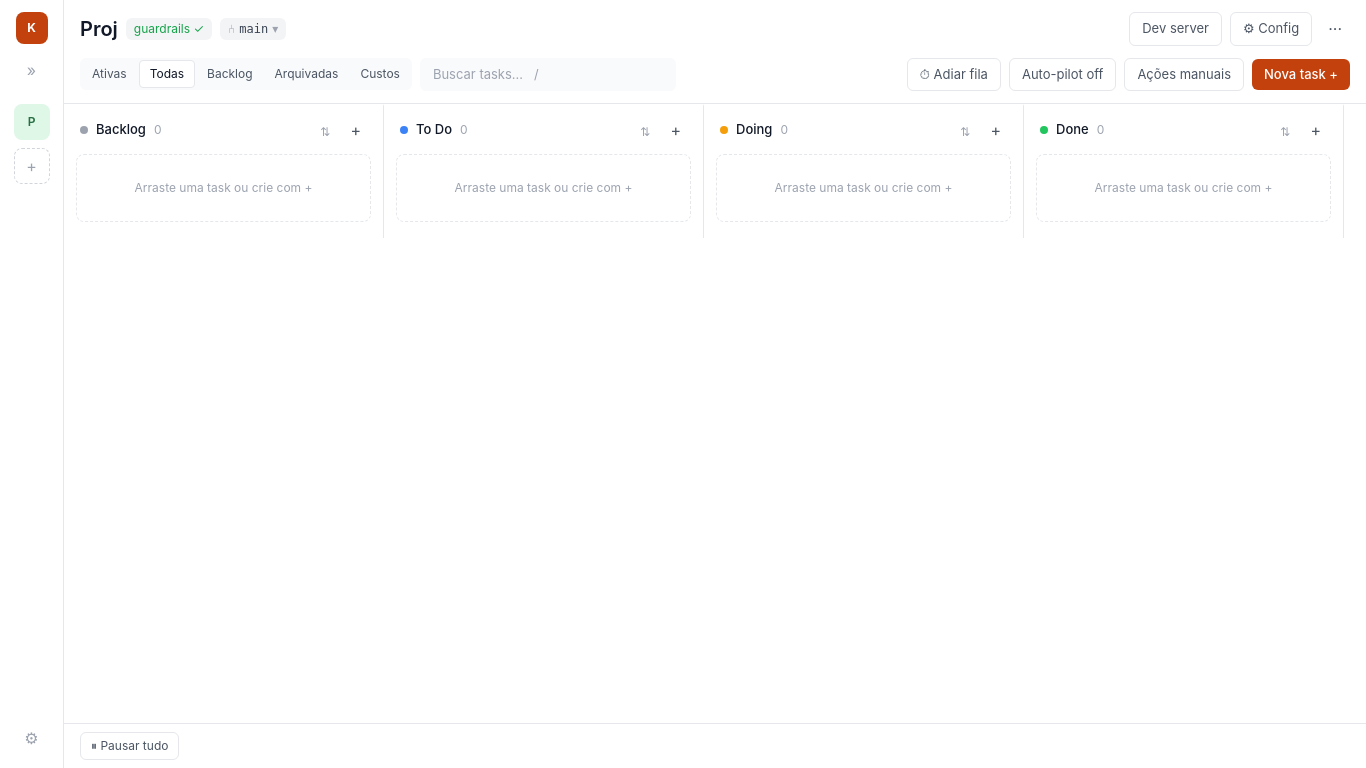
configurações globais em abas › abre em Execução e as outras abas ficam escondidas até o clique
Click the button titled "Configurações globais (valem para todos os projetos)": (31, 738) [18, 720, 45, 756]
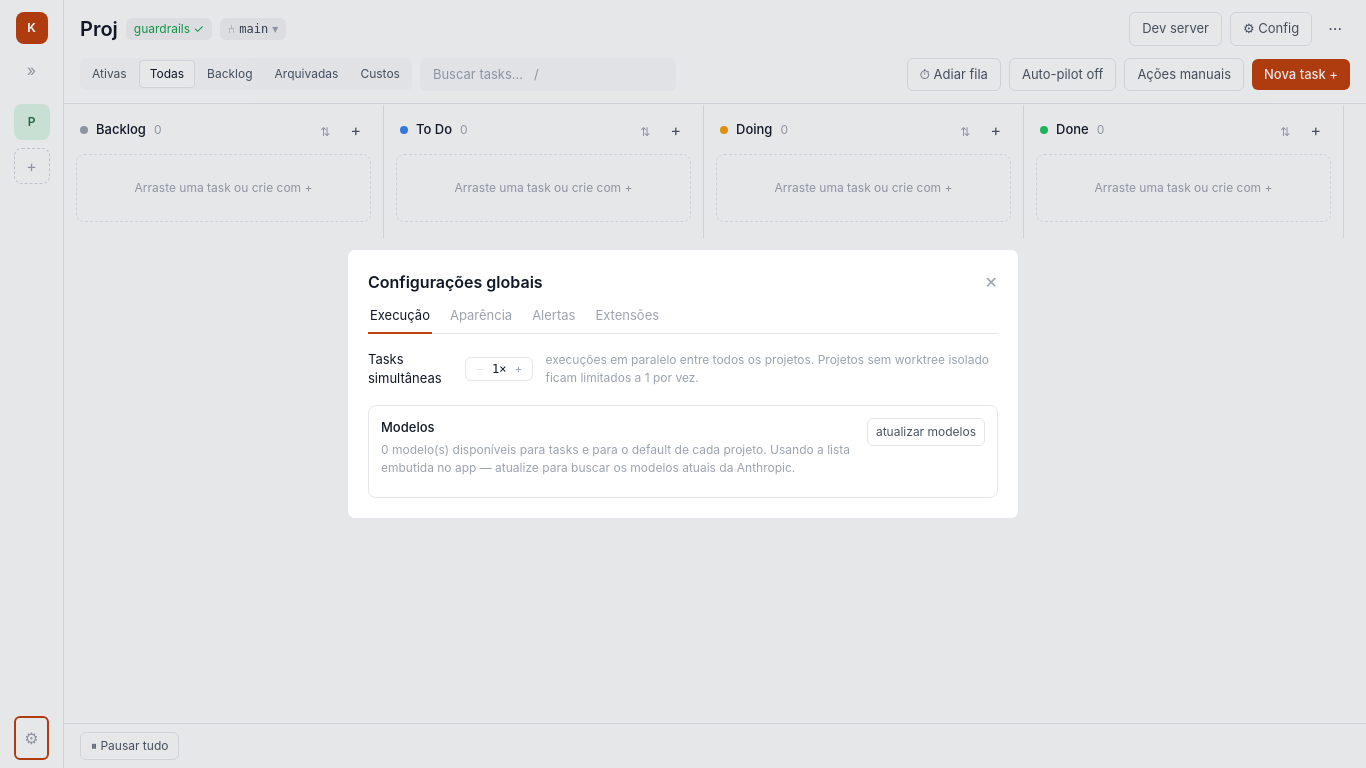
Expected: the text "Notificações" is not shown
Expected: the text "Tasks simultâneas" is shown, [368, 350, 453, 388]
Click the button "Alertas": (554, 320) [530, 306, 577, 334]
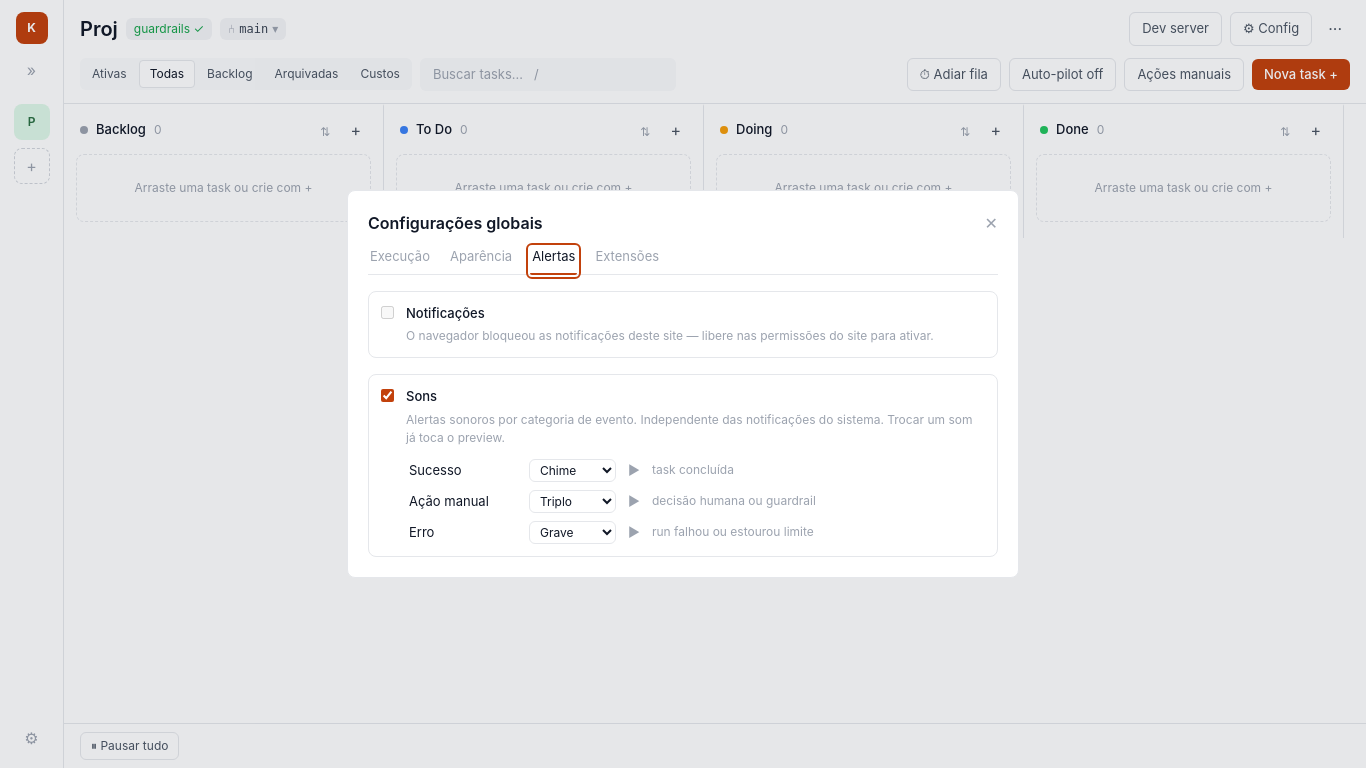
Expected: the text "Notificações" is shown, [406, 305, 485, 321]
Expected: the text "Tasks simultâneas" is gone
